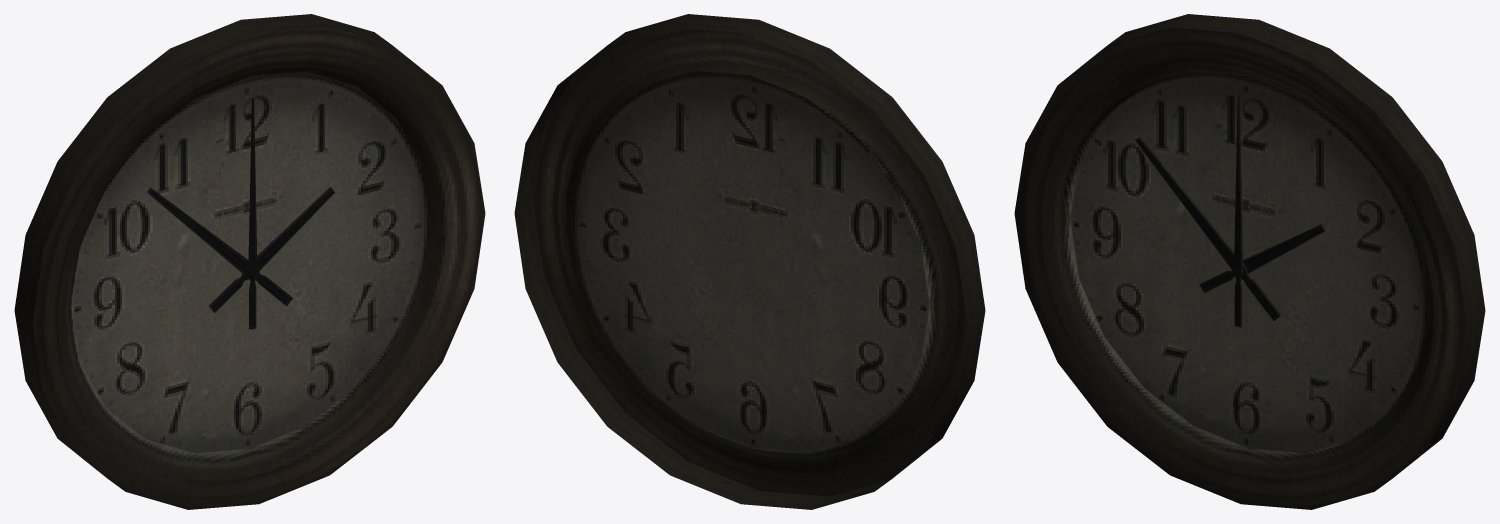
Rendered from clock_1.glb.
The picture shows the model from 3 angles, left to right: view 1: azimuth 30°, elevation 25°; view 2: azimuth 150°, elevation 25°; view 3: azimuth 330°, elevation 25°; orthographic projection.
Visible parts, largest first — view 1: clock_1, clock_1_arm_minutes, clock_1_arm_hours, clock_1_arm_seconds; view 2: clock_1; view 3: clock_1, clock_1_arm_minutes, clock_1_arm_seconds, clock_1_arm_hours.
Part boxes in pixels (x1=…): clock_1: x1=14, y1=14, x2=485, y2=509; clock_1_arm_minutes: x1=147, y1=187, x2=292, y2=306; clock_1_arm_hours: x1=209, y1=186, x2=335, y2=312; clock_1_arm_seconds: x1=248, y1=97, x2=257, y2=329; clock_1: x1=514, y1=14, x2=985, y2=509; clock_1: x1=1014, y1=14, x2=1485, y2=509; clock_1_arm_minutes: x1=1135, y1=136, x2=1281, y2=320; clock_1_arm_seconds: x1=1234, y1=95, x2=1243, y2=327; clock_1_arm_hours: x1=1199, y1=224, x2=1325, y2=293.
Bounding box in the file's own units: 0.4023 × 0.4 × 0.03.
1 material, 1 textured.
